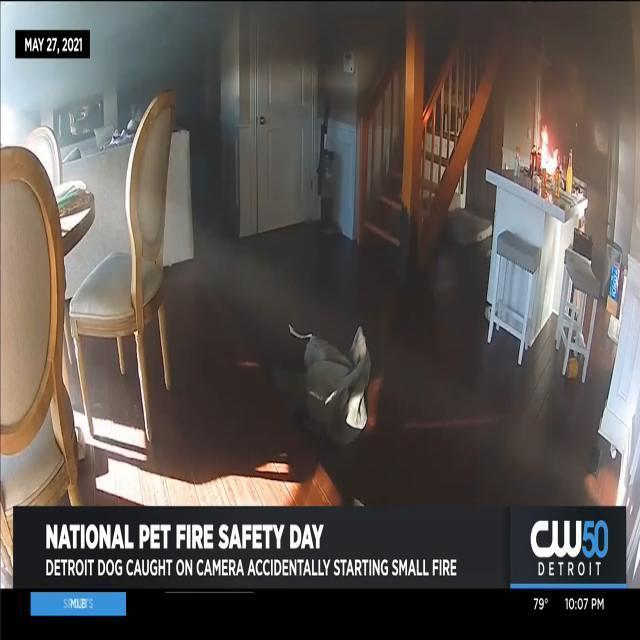Fire: (535, 122, 564, 182)
